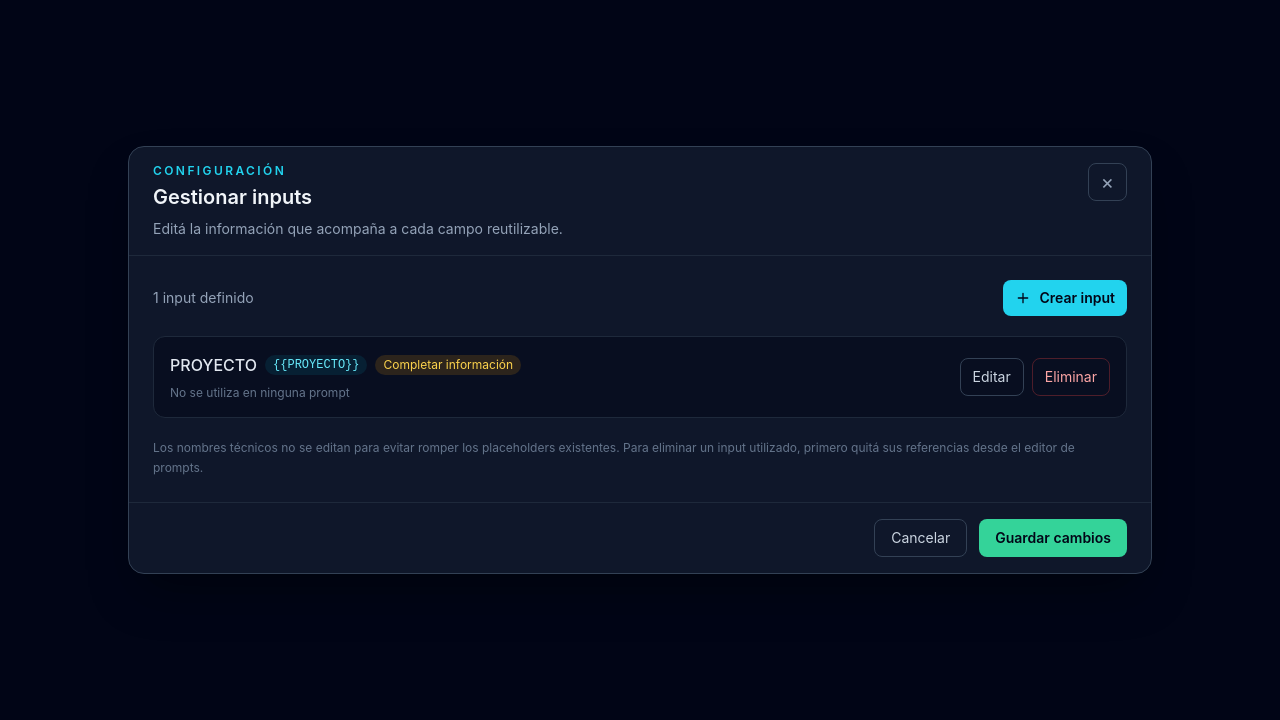
Scenario: FieldsManagerDialog › abre el editor del input al hacer clic en completar información
The width and height of the screenshot is (1280, 720).
Click the button "Completar información". click: (448, 365)
box: top-left (376, 355), bottom-right (521, 375)
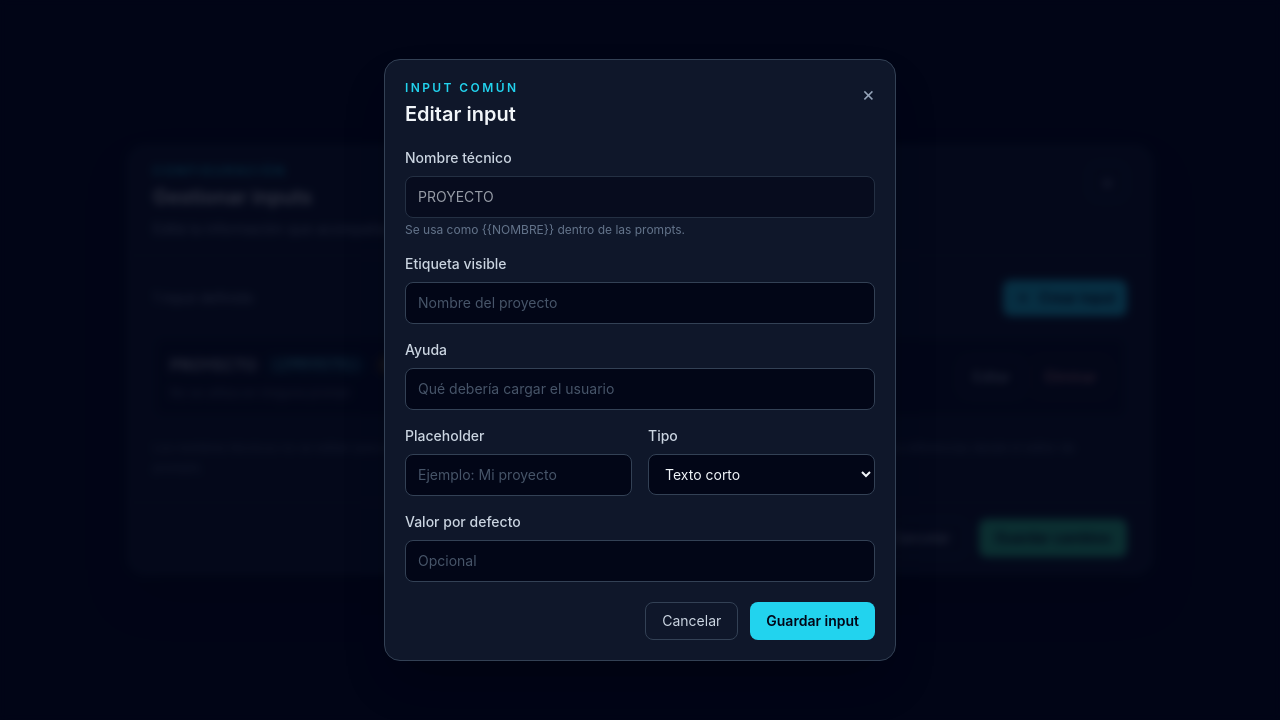
Expected: the dialog "Editar input" is shown
